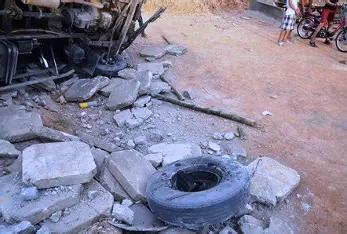ROAD_OBSTACLE: (20, 135, 155, 222), (145, 152, 255, 227)
